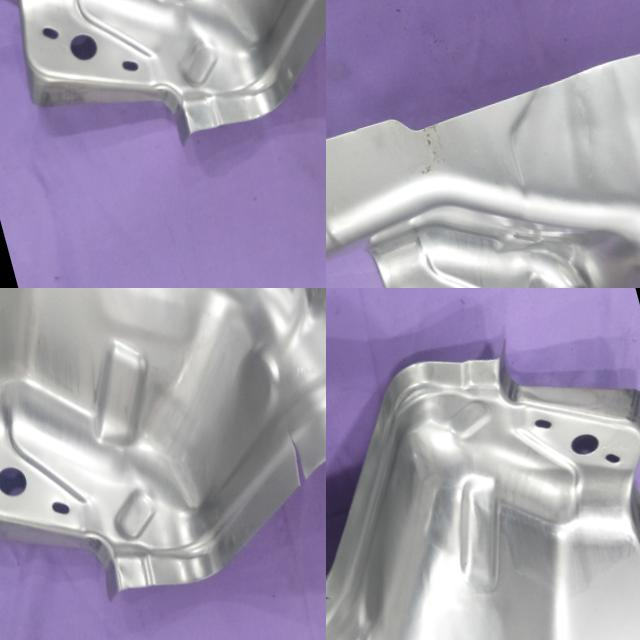Defect: (270, 418, 324, 508), (326, 570, 352, 640)
Healthy: (0, 0, 326, 200)
rust: (398, 102, 460, 188)
